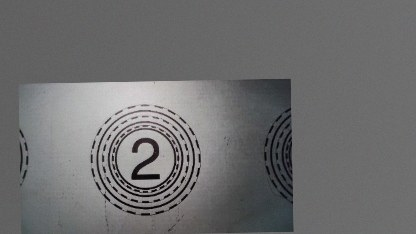2r: (89, 103, 201, 217)
